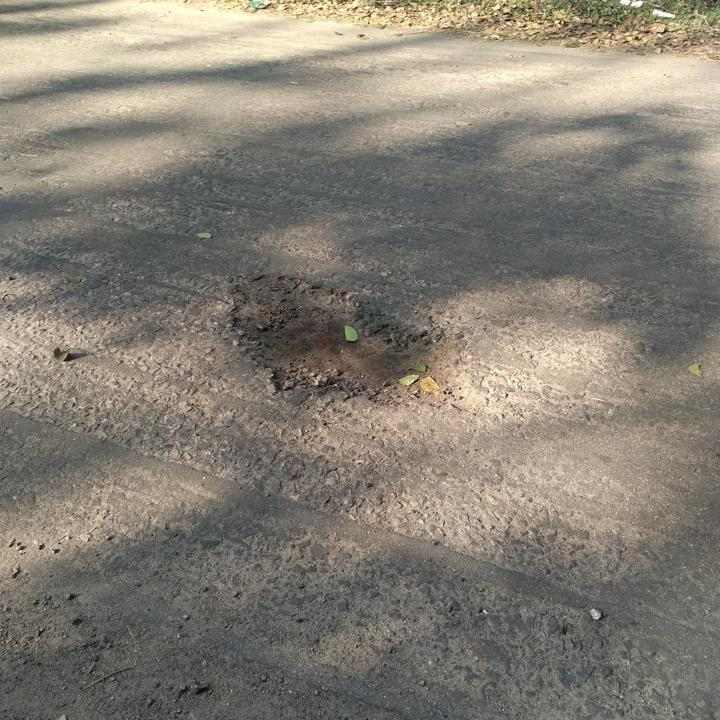pothole: (221, 270, 470, 414)
